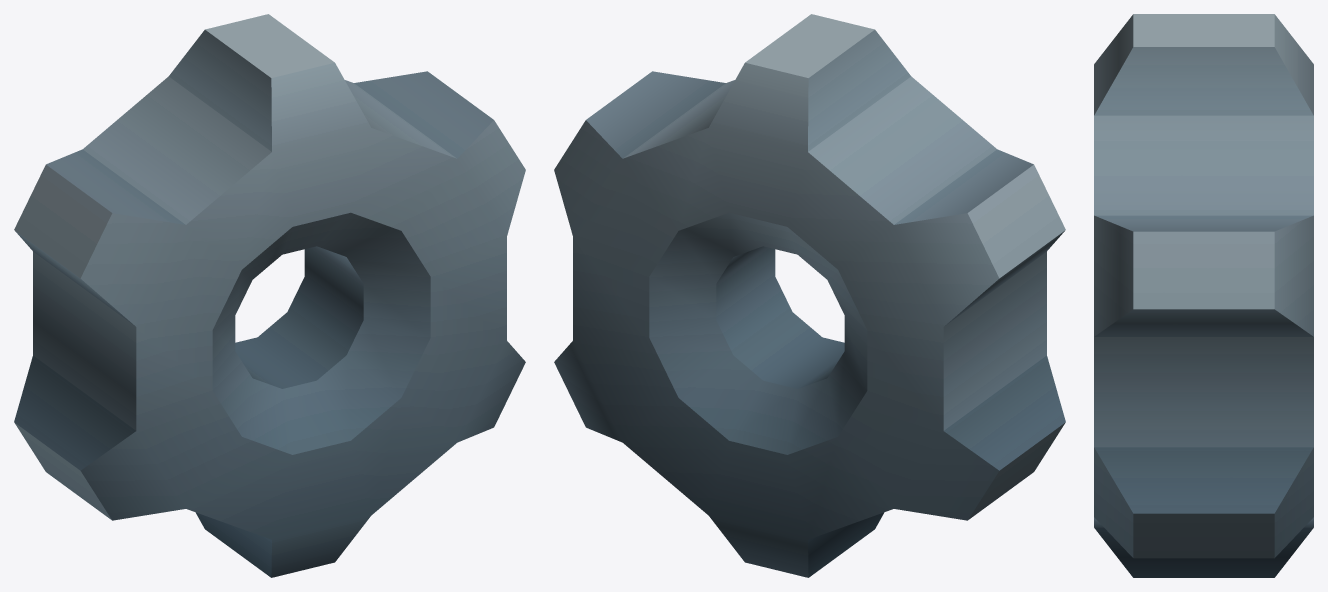
File: kk_cog.glb
3 renders of one model, left to right at view 1: azimuth 30°, elevation 25°; view 2: azimuth 150°, elevation 25°; view 3: azimuth 270°, elevation 25°, orthographic. The views are drawn at different scales.
Parts seen in each view (by area): view 1: Parts_Cog; view 2: Parts_Cog; view 3: Parts_Cog.
Part boxes in pixels (x1=…): Parts_Cog: x1=14, y1=14, x2=525, y2=577; Parts_Cog: x1=554, y1=14, x2=1065, y2=577; Parts_Cog: x1=1094, y1=14, x2=1313, y2=577.
Bounding box in the file's own units: 0.3264 × 0.35 × 0.1312.
1 material, 1 textured.
